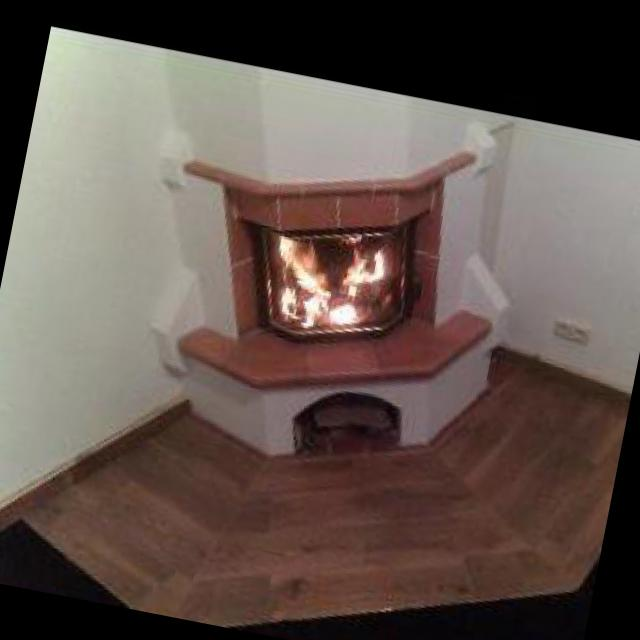fire: (262, 216, 388, 334)
